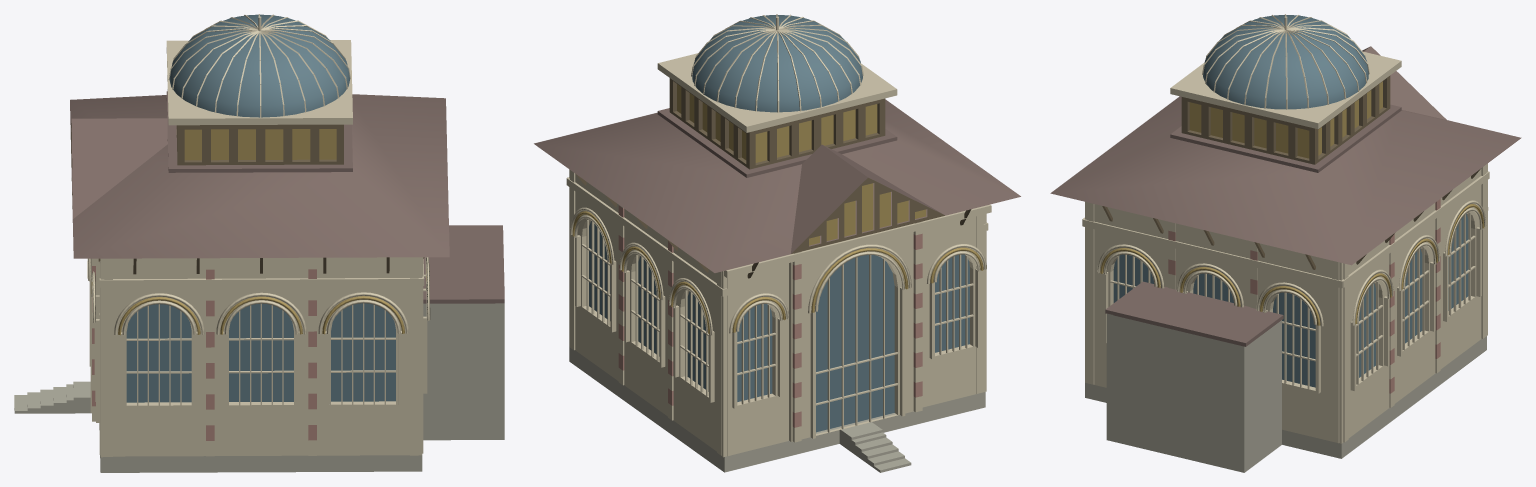
The model's file is bibliotheque-schoelcher-near.glb.
3 renders of one model, left to right at view 1: azimuth 30°, elevation 25°; view 2: azimuth 150°, elevation 25°; view 3: azimuth 270°, elevation 25°, orthographic. The views are drawn at different scales.
Parts seen in each view (by area): view 1: bibliotheque-schoelcher-0-trim, bibliotheque-schoelcher-0-roof, bibliotheque-schoelcher-0-glass, bibliotheque-schoelcher-0-plaster, bibliotheque-schoelcher-0-gold, bibliotheque-schoelcher-0-wood, bibliotheque-schoelcher-0-pink; view 2: bibliotheque-schoelcher-0-trim, bibliotheque-schoelcher-0-roof, bibliotheque-schoelcher-0-glass, bibliotheque-schoelcher-0-plaster, bibliotheque-schoelcher-0-wood, bibliotheque-schoelcher-0-gold, bibliotheque-schoelcher-0-pink; view 3: bibliotheque-schoelcher-0-trim, bibliotheque-schoelcher-0-roof, bibliotheque-schoelcher-0-plaster, bibliotheque-schoelcher-0-glass, bibliotheque-schoelcher-0-wood, bibliotheque-schoelcher-0-gold, bibliotheque-schoelcher-0-pink, bibliotheque-schoelcher-0-brace.
Boxes of the visible parts, <box> form: bibliotheque-schoelcher-0-trim: <box>87,14,430,457</box>; bibliotheque-schoelcher-0-roof: <box>70,91,504,303</box>; bibliotheque-schoelcher-0-glass: <box>126,14,395,402</box>; bibliotheque-schoelcher-0-plaster: <box>14,303,504,472</box>; bibliotheque-schoelcher-0-gold: <box>87,129,426,335</box>; bibliotheque-schoelcher-0-wood: <box>70,123,343,208</box>; bibliotheque-schoelcher-0-pink: <box>92,266,316,440</box>; bibliotheque-schoelcher-0-trim: <box>566,14,991,457</box>; bibliotheque-schoelcher-0-roof: <box>534,99,1020,272</box>; bibliotheque-schoelcher-0-glass: <box>589,15,969,432</box>; bibliotheque-schoelcher-0-plaster: <box>569,346,985,472</box>; bibliotheque-schoelcher-0-wood: <box>669,78,944,253</box>; bibliotheque-schoelcher-0-gold: <box>572,84,983,333</box>; bibliotheque-schoelcher-0-pink: <box>618,205,922,427</box>; bibliotheque-schoelcher-0-trim: <box>1082,14,1489,443</box>; bibliotheque-schoelcher-0-roof: <box>1050,46,1521,346</box>; bibliotheque-schoelcher-0-plaster: <box>1085,313,1486,472</box>; bibliotheque-schoelcher-0-glass: <box>1113,15,1468,387</box>; bibliotheque-schoelcher-0-wood: <box>1181,75,1390,164</box>; bibliotheque-schoelcher-0-gold: <box>1100,81,1484,325</box>; bibliotheque-schoelcher-0-pink: <box>1168,199,1440,393</box>; bibliotheque-schoelcher-0-brace: <box>1102,169,1480,269</box>.
Size of the model in its own units: 28.33 by 23.65 by 28.33.
